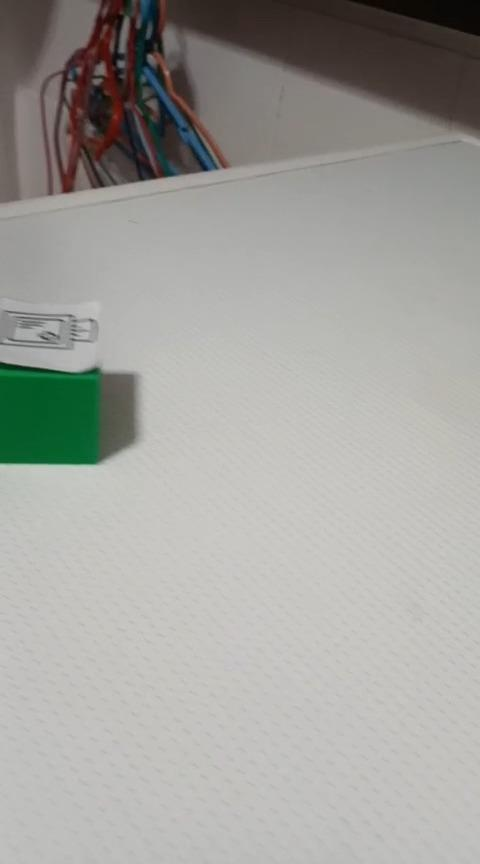Gauze: (0, 295, 102, 462)
